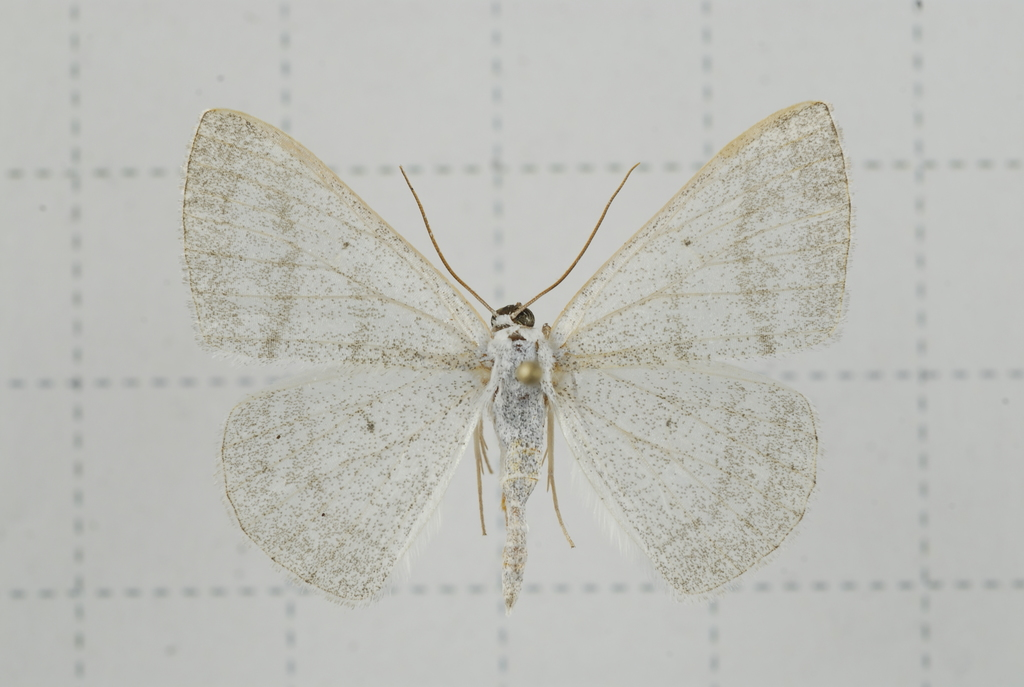Butterfly: (156, 95, 867, 622)
